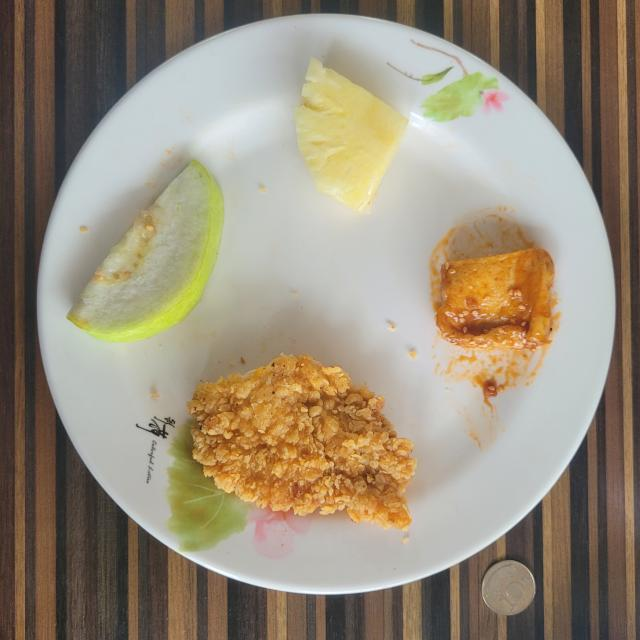coin: (481, 560, 535, 615)
creamy tofu: (436, 249, 554, 349)
fried chicken cutlet: (188, 355, 416, 530)
guava -sliced-: (68, 160, 224, 342)
pineapple: (295, 59, 408, 212)
